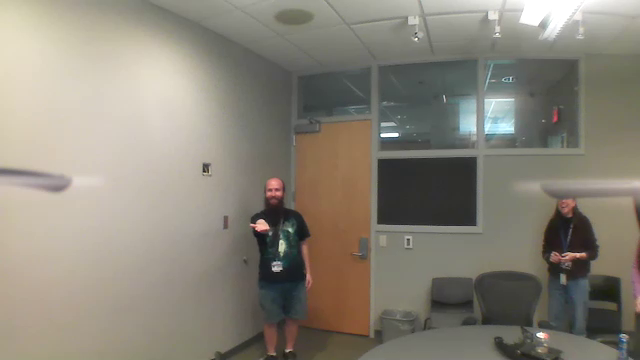land: (242, 217, 280, 238)
